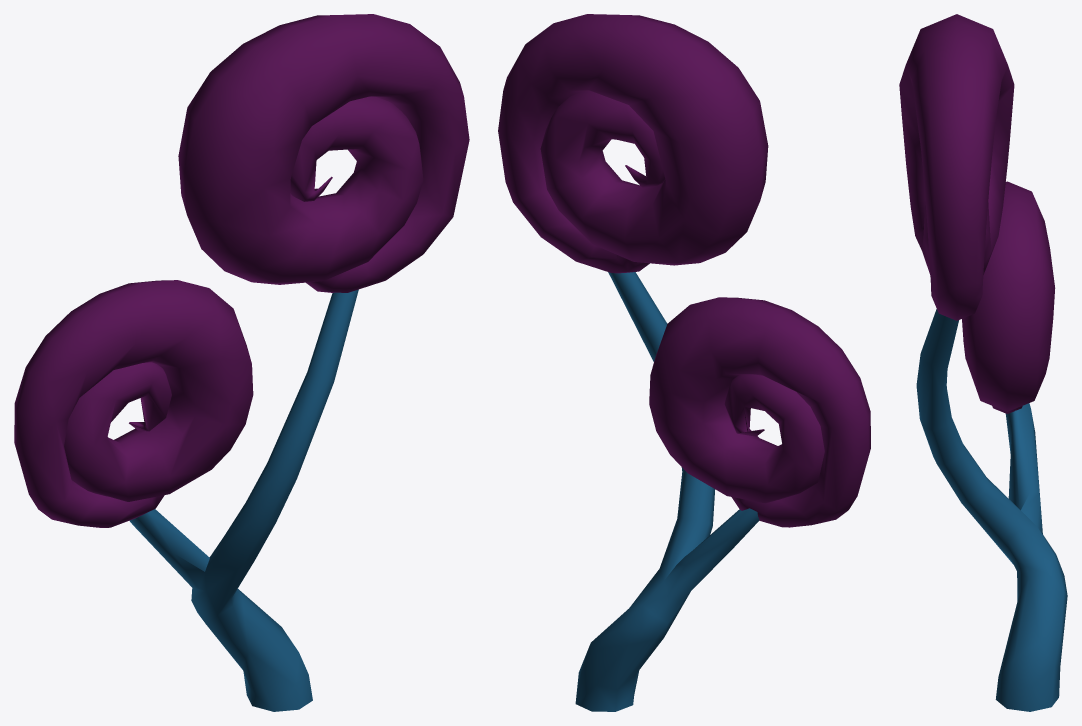
File: tree-swirl-1.glb
3 renders of one model, left to right at view 1: azimuth 30°, elevation 25°; view 2: azimuth 150°, elevation 25°; view 3: azimuth 270°, elevation 25°, orthographic. The views are drawn at different scales.
Parts seen in each view (by area): view 1: Tree_Swirl_1; view 2: Tree_Swirl_1; view 3: Tree_Swirl_1.
Part boxes in pixels (<box>): Tree_Swirl_1: <box>14,14,469,711</box>; Tree_Swirl_1: <box>498,14,870,711</box>; Tree_Swirl_1: <box>899,14,1067,711</box>.
Size of the model in its own units: 4.61 by 7.35 by 1.68.
